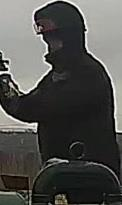helmet: (32, 12, 66, 36)
vest: (31, 60, 120, 161)
